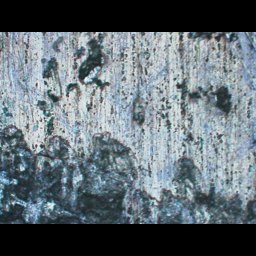d: (0, 114, 255, 223), (42, 36, 112, 98)
